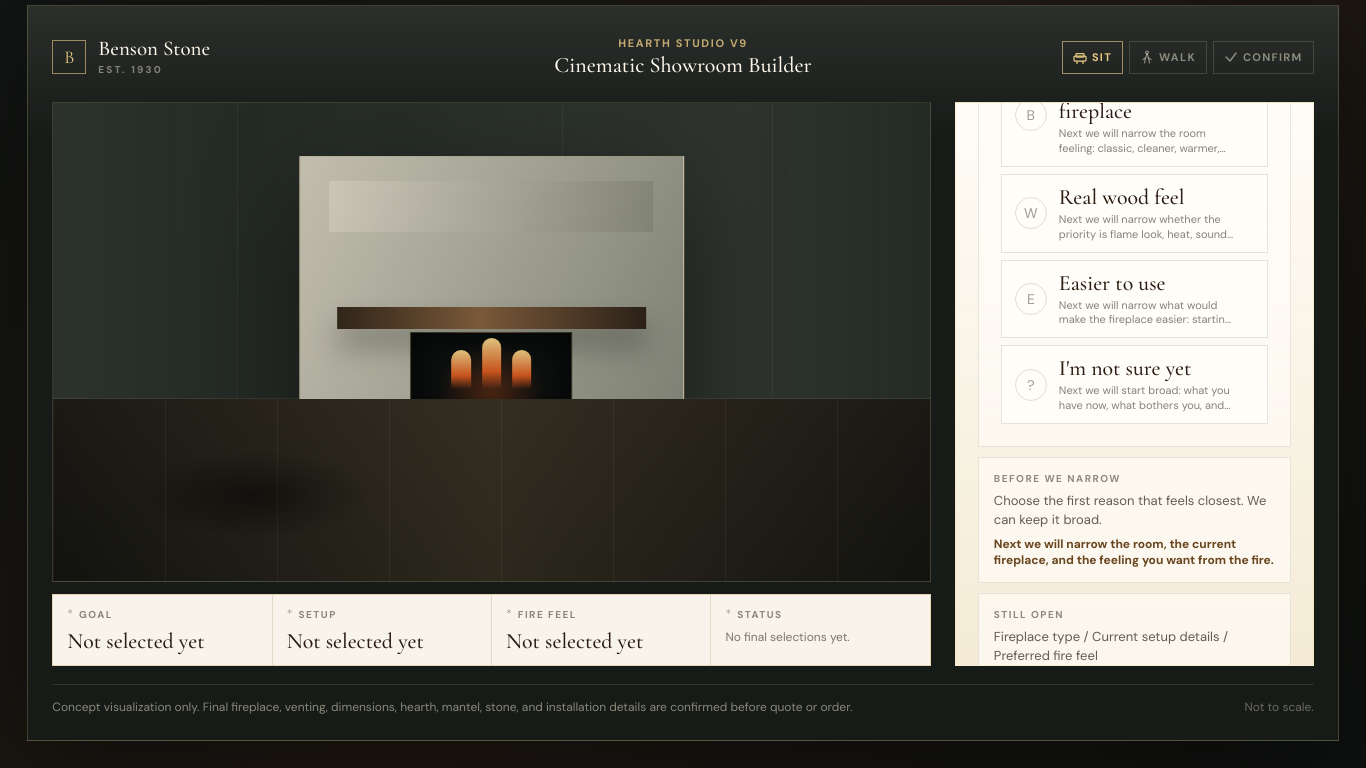
Test: Hearth Studio V9 visual shell › gives reassuring guidance when the customer is not sure yet
(page scrolled)
Click the button "I'm not sure yet" at (1134, 385), box [1001, 345, 1268, 424]
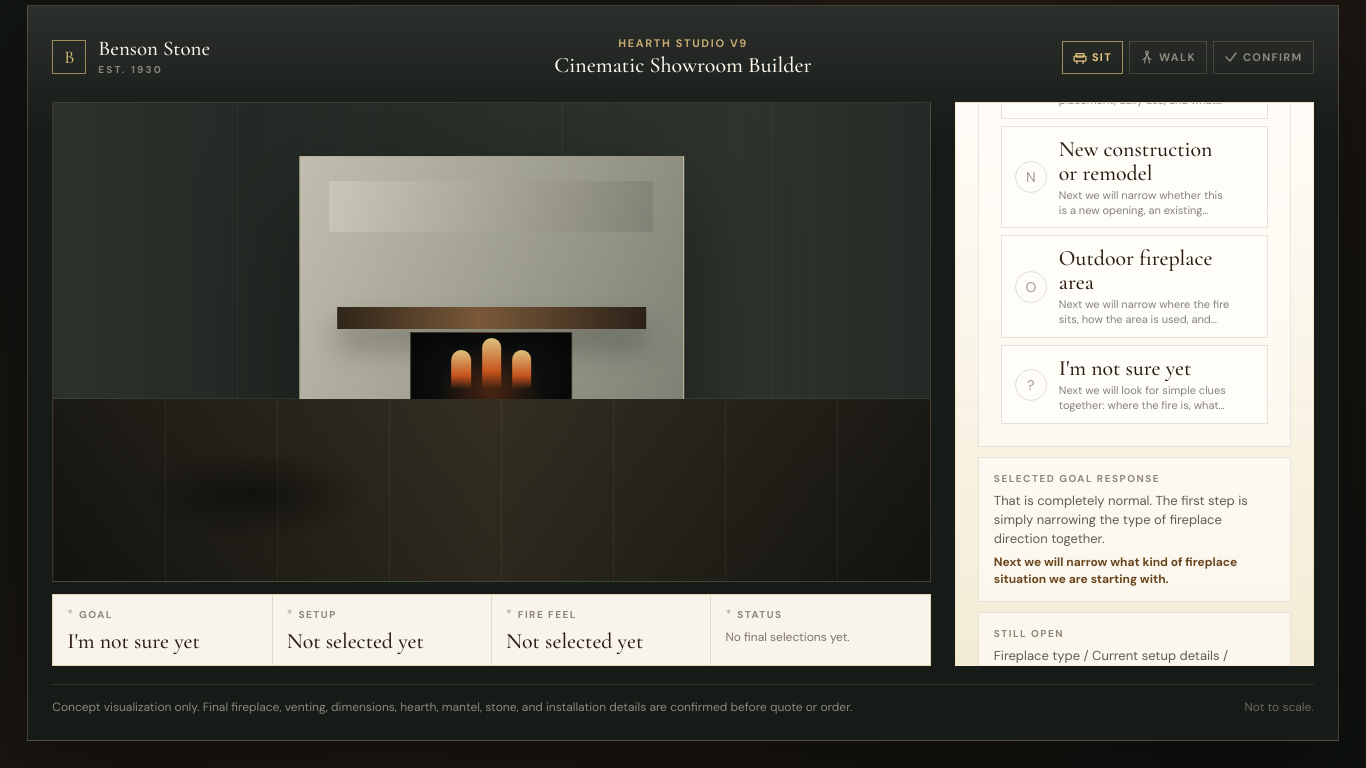
Expected: the element named "Selected response preview" shows "That is completely normal", [994, 492, 1248, 547]
Expected: the element named "Selected response preview" shows "simply narrowing the type of fireplace direction", [994, 492, 1248, 547]
